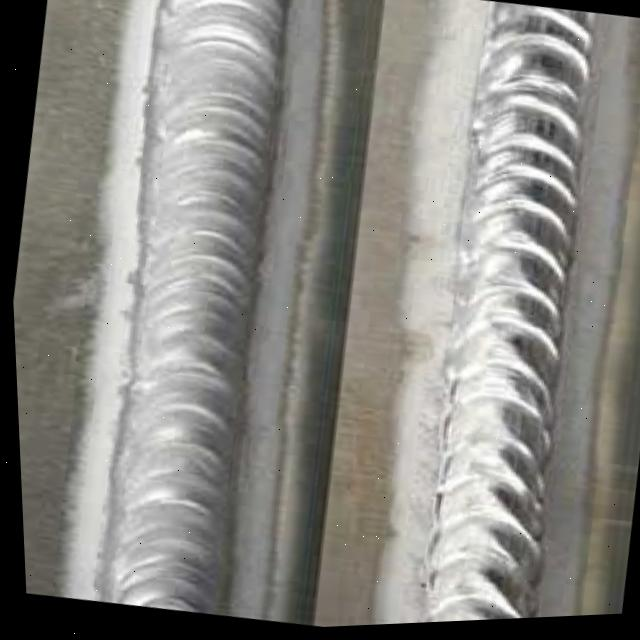Dry: (62, 0, 322, 621), (381, 0, 625, 627)
